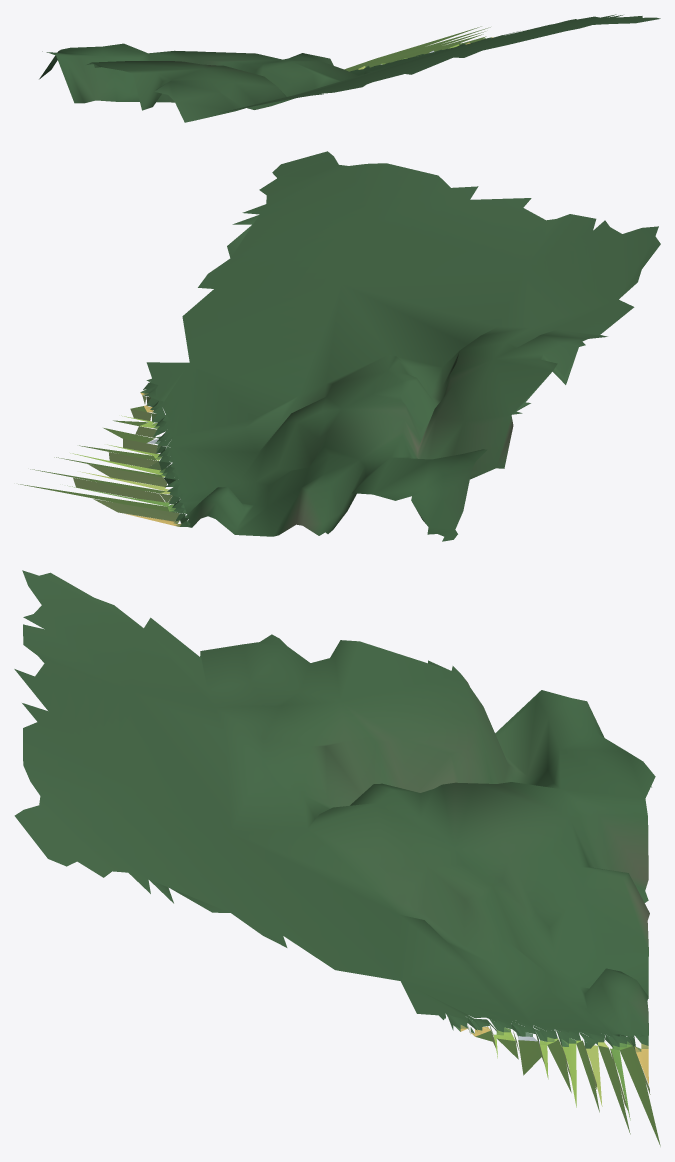
Rendered from payo_land_xm4_y9_lod2.glb.
The picture shows the model from 3 angles, top to bottom: view 1: azimuth 30°, elevation 25°; view 2: azimuth 150°, elevation 25°; view 3: azimuth 270°, elevation 25°; orthographic projection. The views are drawn at different scales.
Visible parts, largest first — view 1: payo_land_xm4_y9; view 2: payo_land_xm4_y9; view 3: payo_land_xm4_y9.
Boxes of the visible parts, x1=… form: payo_land_xm4_y9: x1=39, y1=14, x2=660, y2=122; payo_land_xm4_y9: x1=18, y1=151, x2=660, y2=541; payo_land_xm4_y9: x1=14, y1=570, x2=660, y2=1146.
Bounding box in the file's own units: 304 × 136 × 268.
